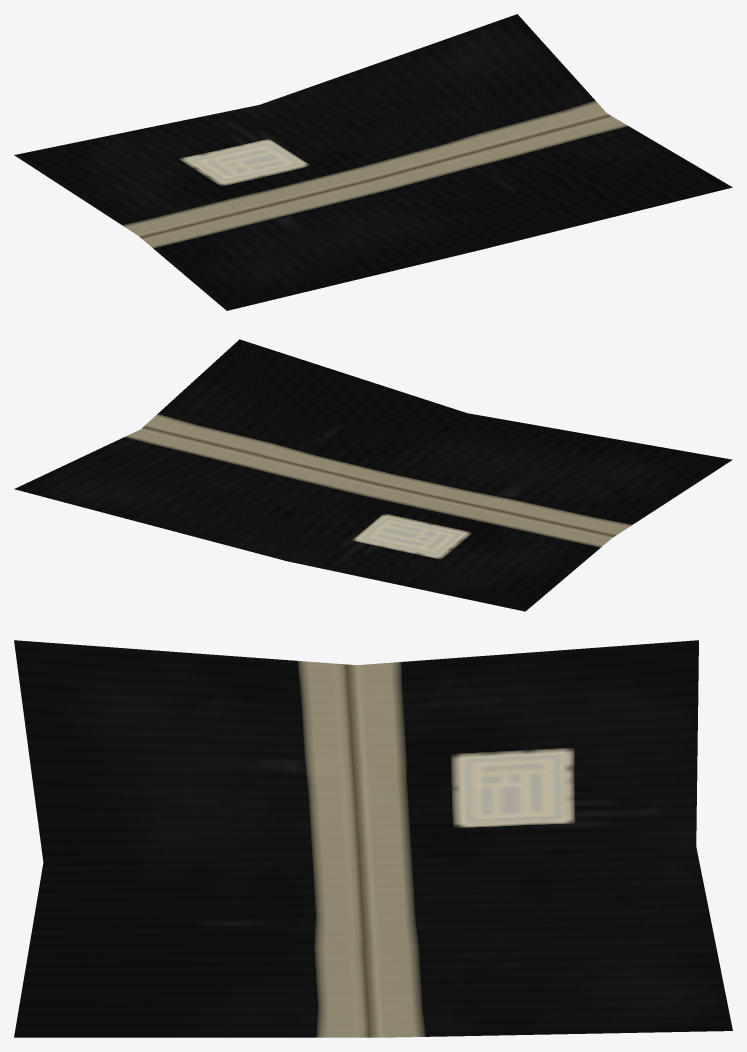
Rendered from p_mesh_bananabox_part01.fbx.
The picture shows the model from 3 angles, top to bottom: view 1: azimuth 30°, elevation 25°; view 2: azimuth 150°, elevation 25°; view 3: azimuth 270°, elevation 25°; orthographic projection. The views are drawn at different scales.
Parts seen in each view (by area): view 1: p_mesh_containers_boxbanana_part01; view 2: p_mesh_containers_boxbanana_part01; view 3: p_mesh_containers_boxbanana_part01.
Boxes of the visible parts, bbox=[...] form: p_mesh_containers_boxbanana_part01: bbox=[14, 14, 732, 310]; p_mesh_containers_boxbanana_part01: bbox=[14, 339, 732, 611]; p_mesh_containers_boxbanana_part01: bbox=[14, 640, 732, 1037].
Size of the model in its own units: 4.14 by 0.1368 by 3.12.
